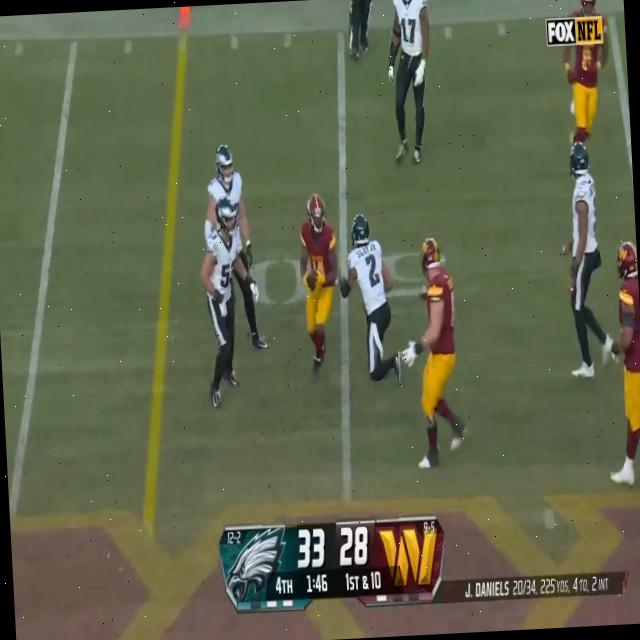Player: (394, 222, 486, 464), (556, 120, 616, 384), (196, 190, 258, 418), (348, 213, 414, 418), (290, 179, 351, 387), (548, 0, 618, 169), (596, 230, 640, 491), (376, 0, 445, 155)
